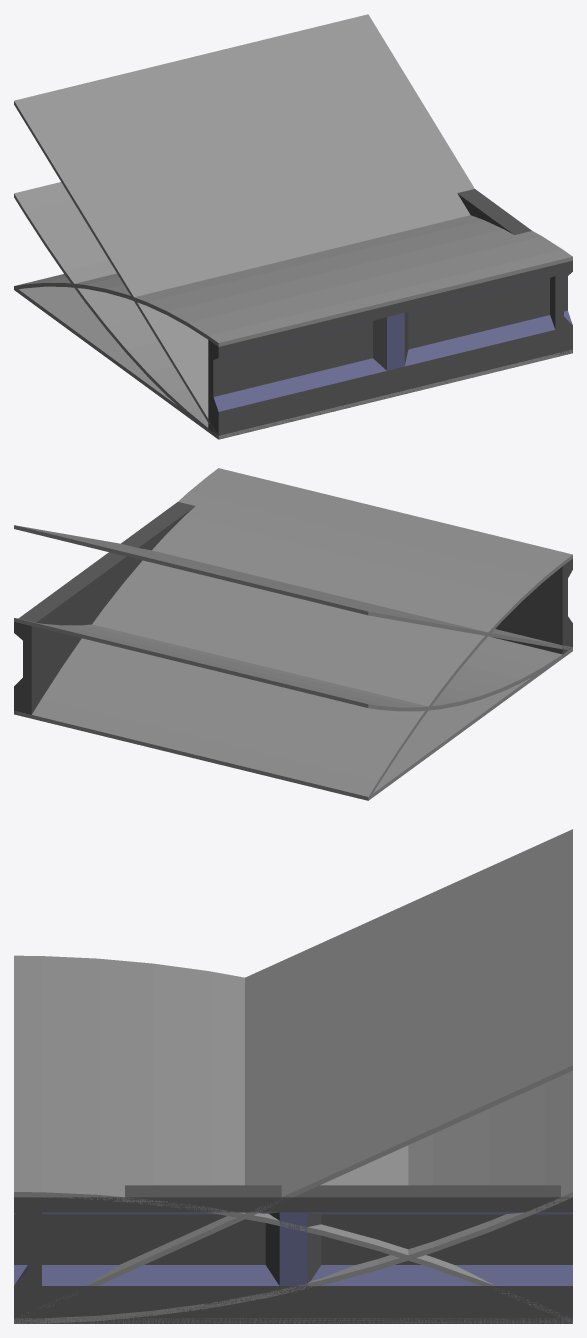
3 renders of one model, top to bottom at view 1: azimuth 30°, elevation 25°; view 2: azimuth 150°, elevation 25°; view 3: azimuth 270°, elevation 25°, orthographic. The views are drawn at different scales.
Parts seen in each view (by area): view 1: PlaneSlope, PlaneWall, PlaneSlopeDown, PlaneSlopeUp, PlaneWallCorner, Plane, PlaneWallInnerCorner; view 2: PlaneSlopeDown, PlaneSlopeUp, PlaneWallCorner, PlaneSlope, Plane, PlaneWall; view 3: PlaneSlope, PlaneWallCorner, PlaneSlopeDown, PlaneSlopeUp, PlaneWall, Plane, PlaneWallInnerCorner.
Part boxes in pixels (x1,y1,x2,y2): PlaneSlope: [14, 14, 474, 438]; PlaneWall: [208, 260, 572, 438]; PlaneSlopeDown: [14, 215, 572, 346]; PlaneSlopeUp: [14, 182, 572, 439]; PlaneWallCorner: [218, 189, 572, 357]; Plane: [14, 286, 218, 438]; PlaneWallInnerCorner: [550, 264, 572, 351]; PlaneSlopeDown: [32, 468, 572, 798]; PlaneSlopeUp: [14, 618, 572, 711]; PlaneWallCorner: [14, 502, 562, 714]; PlaneSlope: [14, 525, 572, 650]; Plane: [14, 650, 571, 800]; PlaneWall: [492, 558, 572, 657]; PlaneSlope: [15, 829, 572, 1318]; PlaneWallCorner: [14, 1185, 572, 1323]; PlaneSlopeDown: [14, 955, 569, 1321]; PlaneSlopeUp: [14, 1071, 572, 1323]; PlaneWall: [14, 1197, 41, 1323]; Plane: [18, 1318, 572, 1323]; PlaneWallInnerCorner: [14, 1197, 41, 1305].
Size of the model in its own units: 20 by 10.21 by 20.
